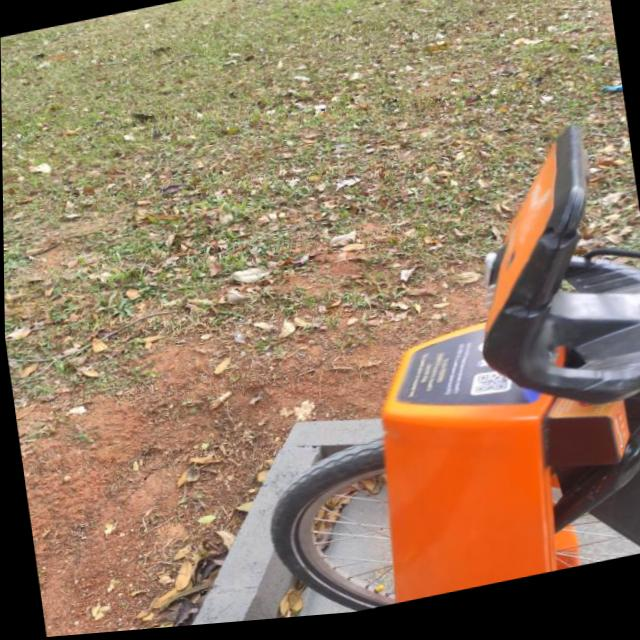qrcode: (472, 379, 509, 404)
